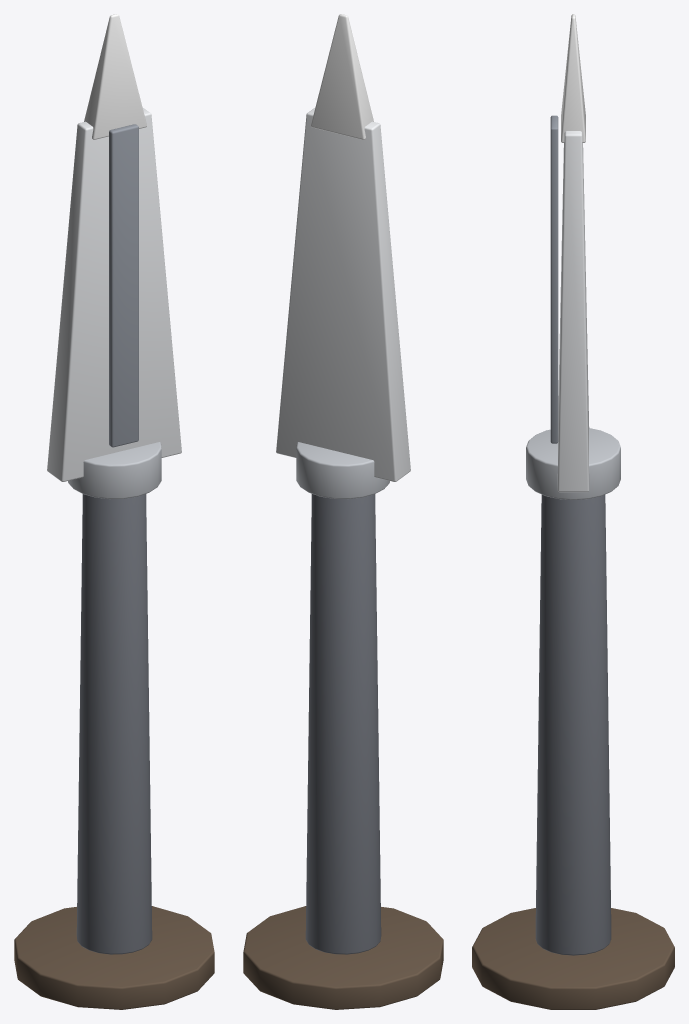
Rendered from bisturi.glb.
3 views of the same model, side by side, from view 1: azimuth 30°, elevation 25°; view 2: azimuth 150°, elevation 25°; view 3: azimuth 270°, elevation 25° (orthographic).
Parts seen in each view (by area): view 1: bisturi; view 2: bisturi; view 3: bisturi.
Boxes of the visible parts, x1,y1,x2,y2 form: bisturi: [14, 14, 214, 1009]; bisturi: [243, 14, 443, 1009]; bisturi: [472, 14, 674, 1009].
Bounding box in the file's own units: 0.312 × 1.66 × 0.32.
